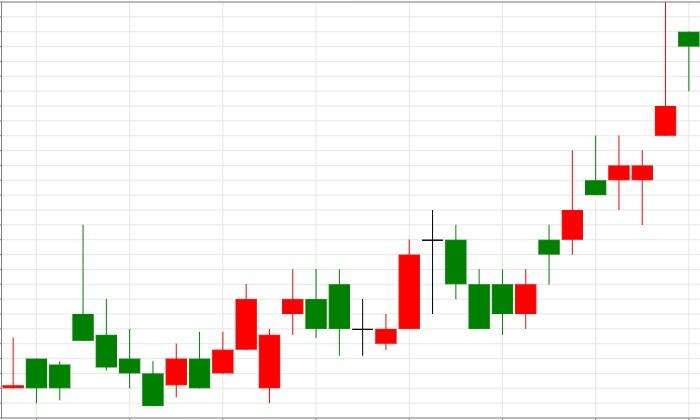shooting_star_fall: (515, 2, 676, 329)
